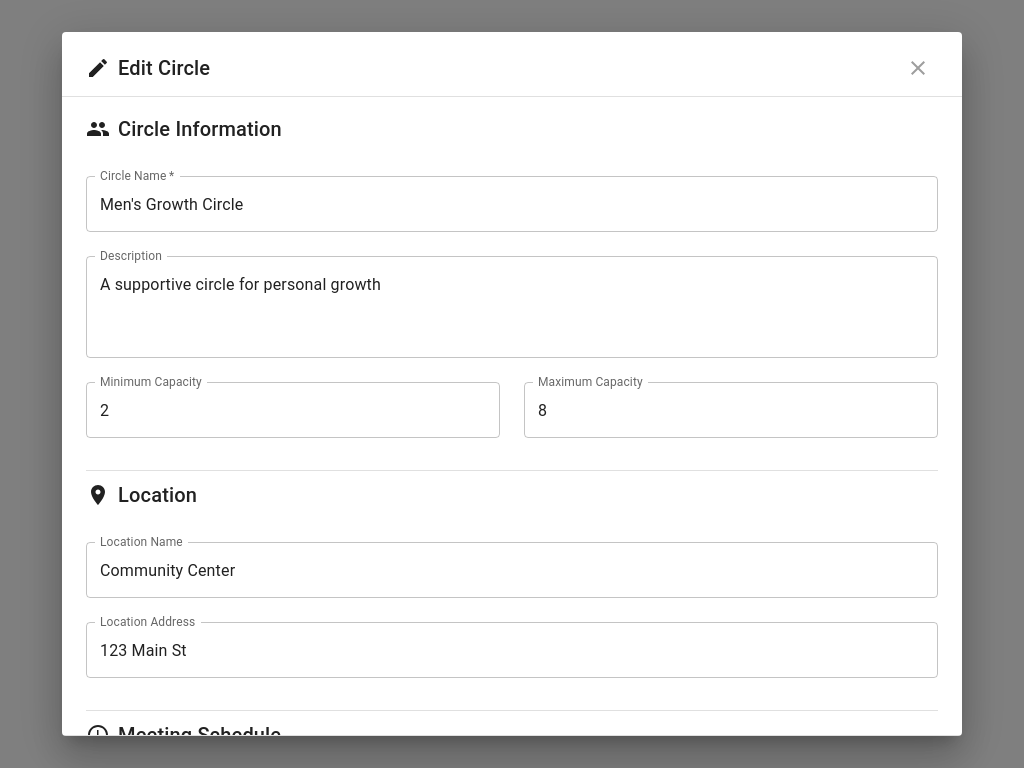
Test case: CircleEditDialog › Form Submission › should handle API errors gracefully
Replace the text in the field showing "Men's Growth Circle" with "Updated Name" at (512, 204), box [86, 176, 938, 232]
(page scrolled)
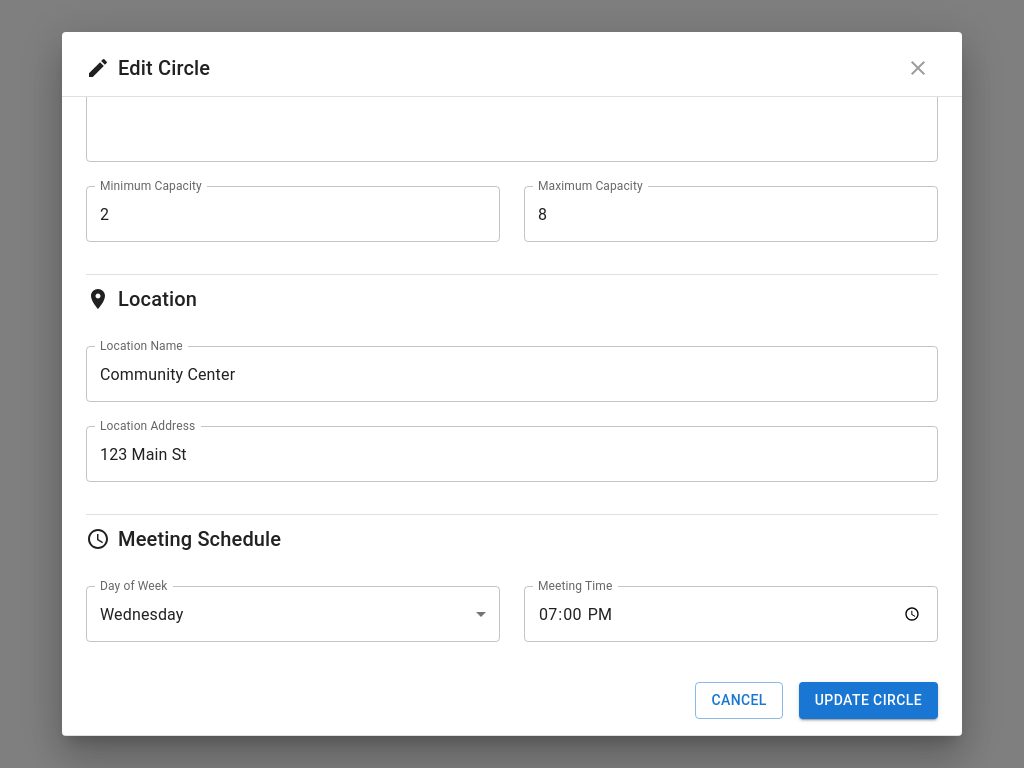
Click the button "Update Circle" at (868, 700), box [799, 682, 938, 718]
(page scrolled)
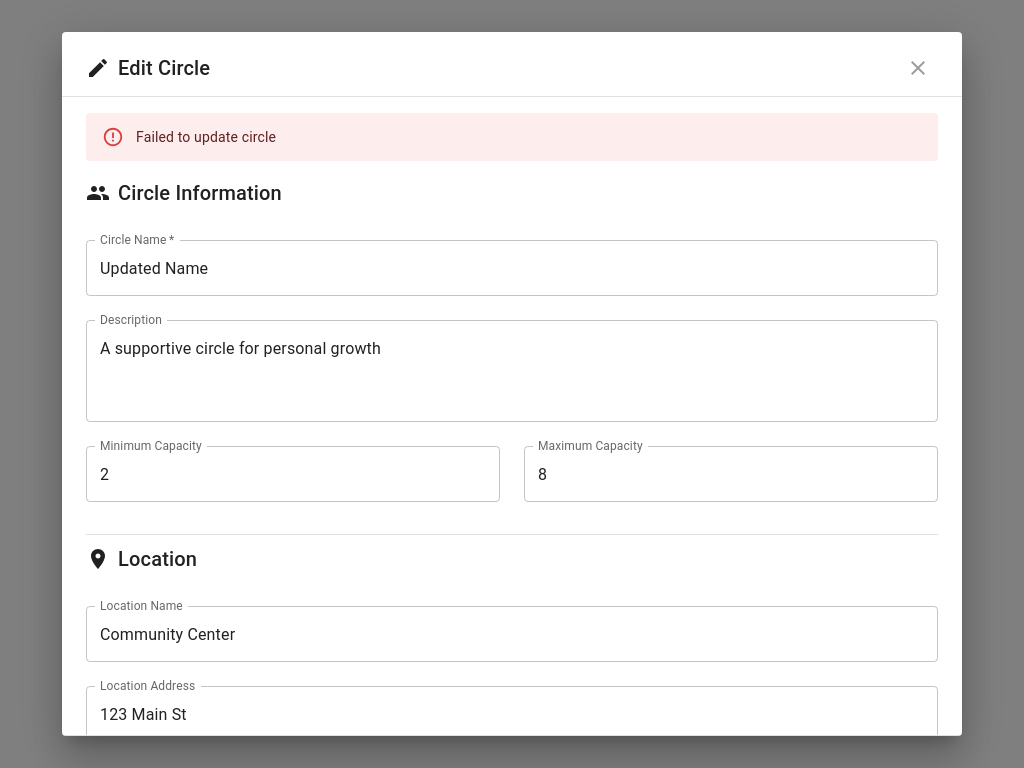
Expected: the text "Failed to update circle" is shown, [136, 129, 276, 145]
